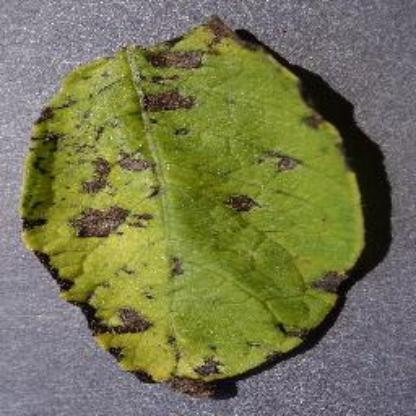Early-Blight: (18, 13, 378, 398)
